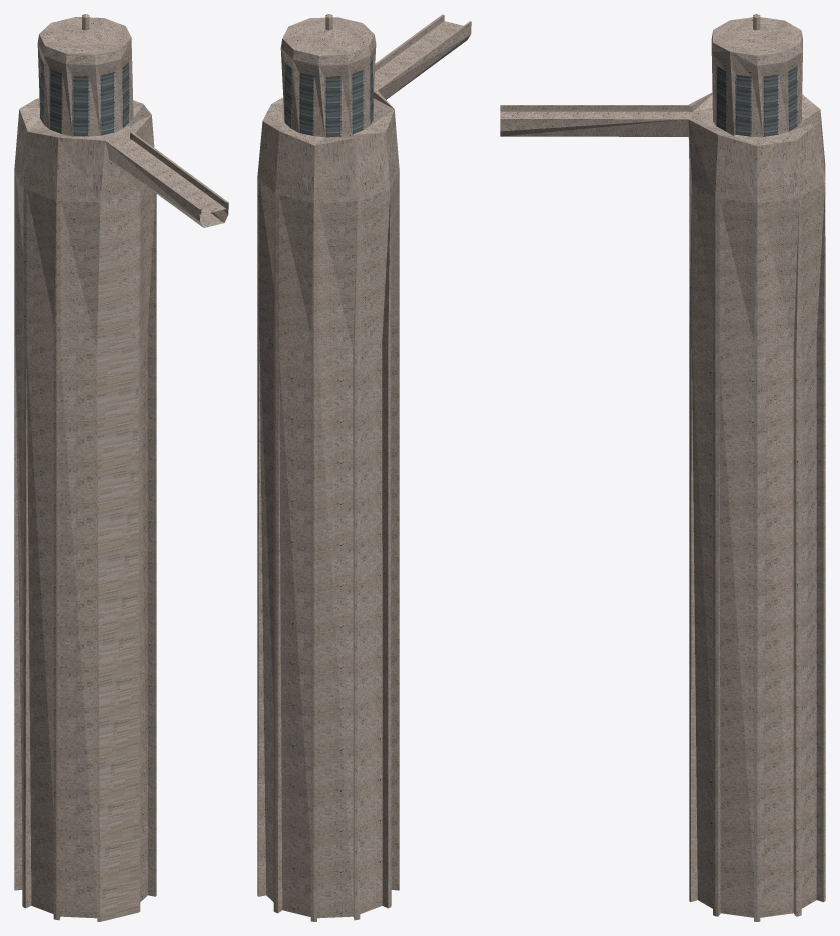
The model's file is lod_dam_turbine_4.obj.
3 views of the same model, side by side, from view 1: azimuth 30°, elevation 25°; view 2: azimuth 150°, elevation 25°; view 3: azimuth 270°, elevation 25° (orthographic).
Parts seen in each view (by area): view 1: lod_dam_turbine_4; view 2: lod_dam_turbine_4; view 3: lod_dam_turbine_4.
Part boxes in pixels (x1,y1,x2,y2): lod_dam_turbine_4: (14, 14, 228, 921); lod_dam_turbine_4: (257, 14, 471, 921); lod_dam_turbine_4: (500, 14, 825, 921).
Size of the model in its own units: 19 by 129 by 43.21.
2 materials, 2 textured.
